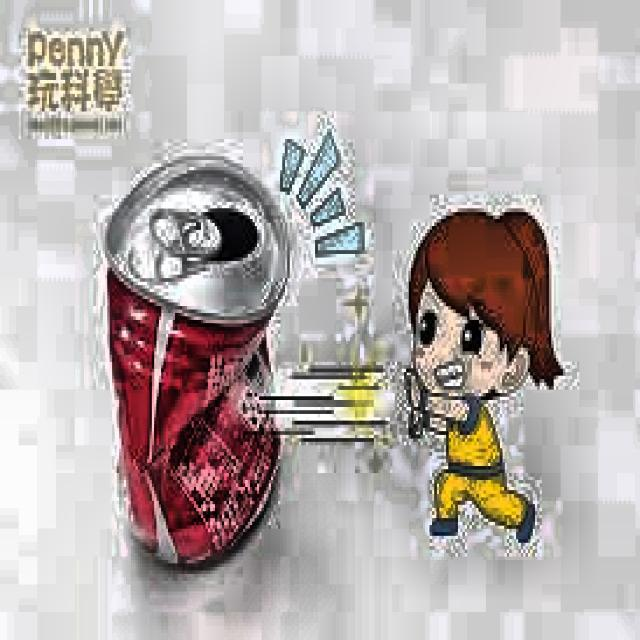can: (98, 148, 294, 581)
